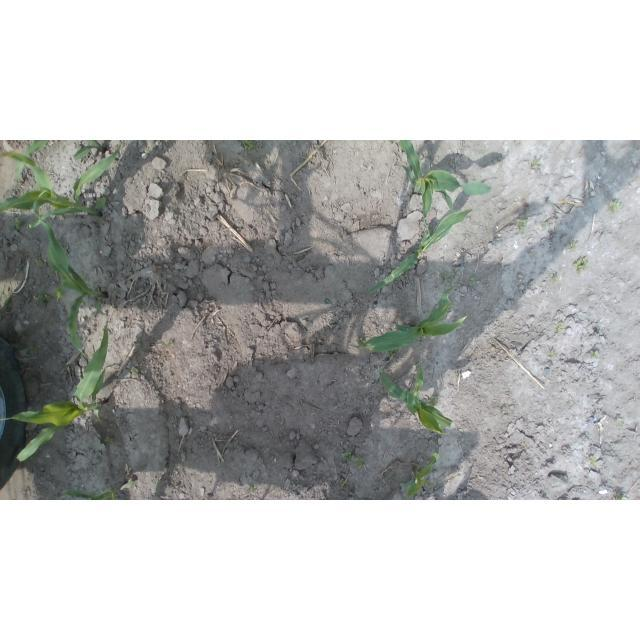Maize: (1, 321, 112, 463), (33, 187, 106, 363), (368, 207, 484, 295), (1, 148, 124, 224), (399, 141, 492, 238), (349, 286, 468, 353), (376, 359, 452, 435), (15, 140, 106, 181), (402, 453, 440, 500), (62, 480, 135, 500)
Weeds: (341, 448, 366, 468), (572, 257, 588, 275), (440, 271, 456, 287), (37, 293, 54, 307), (517, 216, 528, 233), (609, 200, 621, 215), (11, 217, 24, 228), (242, 141, 254, 152), (1, 292, 10, 305), (531, 157, 540, 169), (428, 397, 438, 407), (567, 242, 578, 251), (589, 455, 597, 467), (613, 493, 626, 500), (129, 366, 139, 375), (152, 481, 160, 492), (556, 324, 564, 333), (97, 216, 106, 224), (36, 258, 45, 266), (547, 351, 557, 358), (386, 349, 396, 356), (247, 486, 257, 493), (590, 350, 598, 358), (616, 418, 623, 427), (540, 221, 549, 228), (469, 278, 478, 285), (357, 338, 366, 345), (79, 274, 86, 283), (340, 478, 346, 487), (105, 437, 114, 443), (551, 275, 558, 281), (167, 341, 174, 347), (292, 230, 297, 236), (501, 407, 506, 412), (361, 498, 366, 500)
